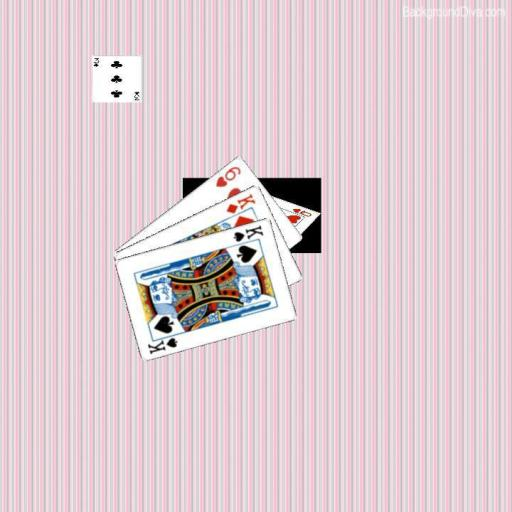card-corner: (145, 330, 180, 356), (222, 190, 256, 214), (212, 163, 242, 188), (230, 222, 264, 243)
